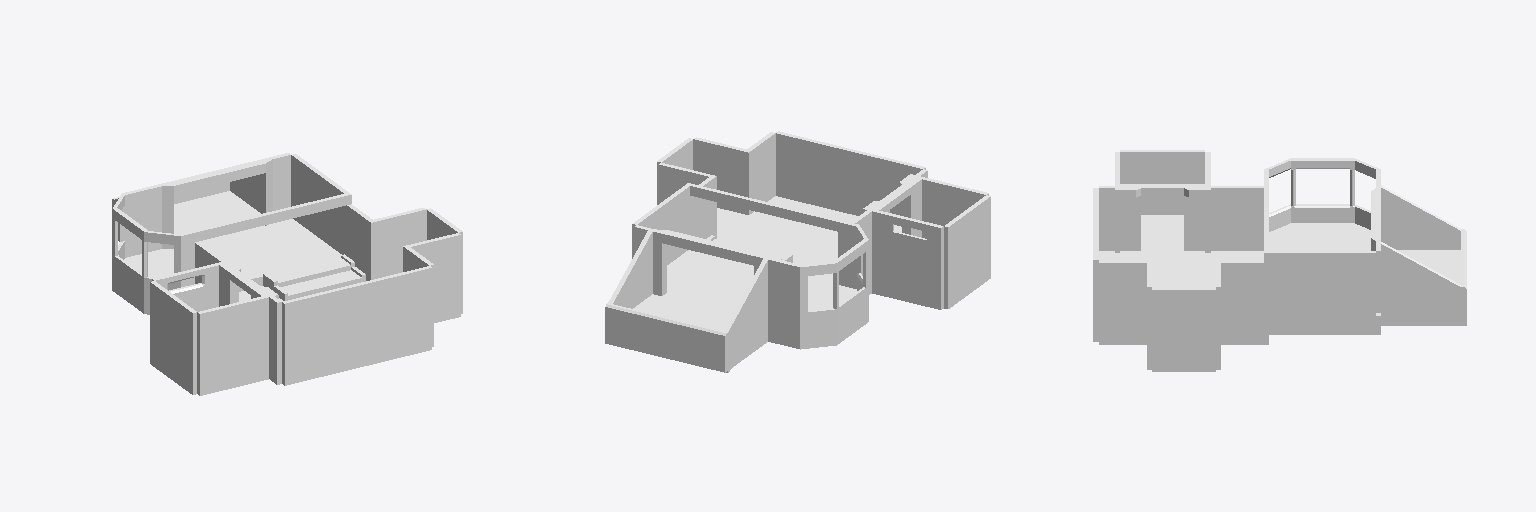
The model's file is Bedroom.obj.
3 views of the same model, side by side, from view 1: azimuth 30°, elevation 25°; view 2: azimuth 150°, elevation 25°; view 3: azimuth 270°, elevation 25° (orthographic).
Parts seen in each view (by area): view 1: Bedroom; view 2: Bedroom; view 3: Bedroom.
Part boxes in pixels (x1,y1,x2,y2): Bedroom: (112, 153, 462, 395); Bedroom: (605, 131, 990, 372); Bedroom: (1093, 150, 1466, 371).
Size of the model in its own units: 15.5 by 4.75 by 17.5.